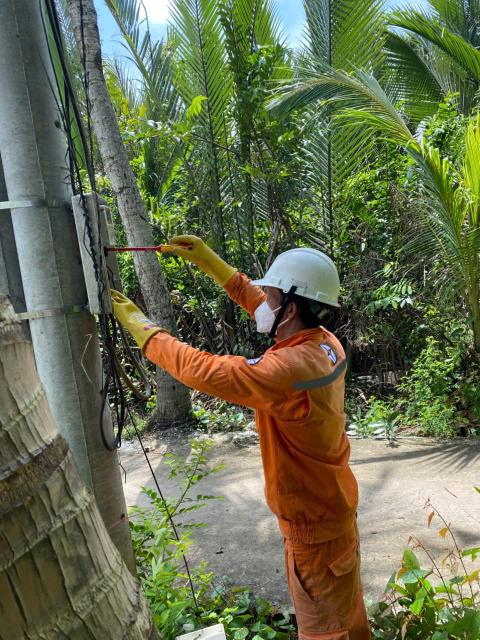gloves: (90, 277, 165, 361), (155, 222, 234, 291)
helmet: (243, 233, 366, 314)
